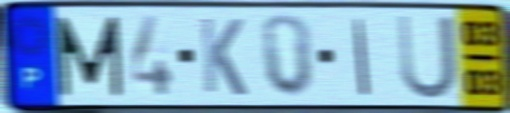0: (259, 12, 316, 102)
4: (129, 13, 175, 100)
I: (352, 16, 372, 98)
K: (197, 15, 249, 99)
M: (53, 14, 126, 100)
U: (395, 12, 460, 102)
